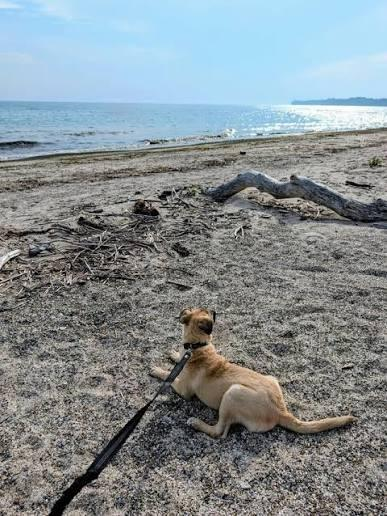adult_dog: (145, 307, 357, 439)
